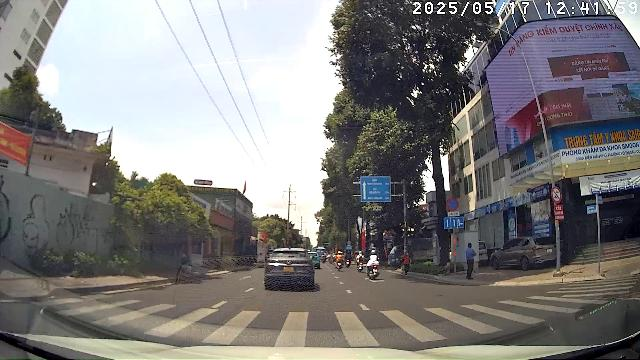131a-cam-do-xe: (447, 197, 459, 211)
